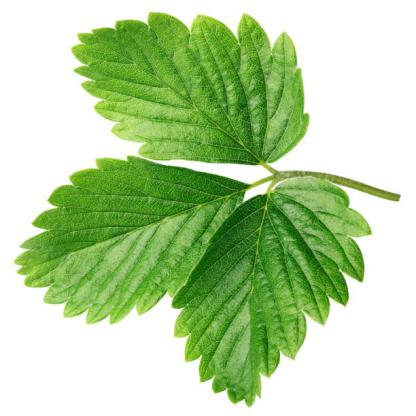strawberry leaf: (167, 184, 375, 410), (10, 158, 258, 329), (65, 11, 316, 169)
